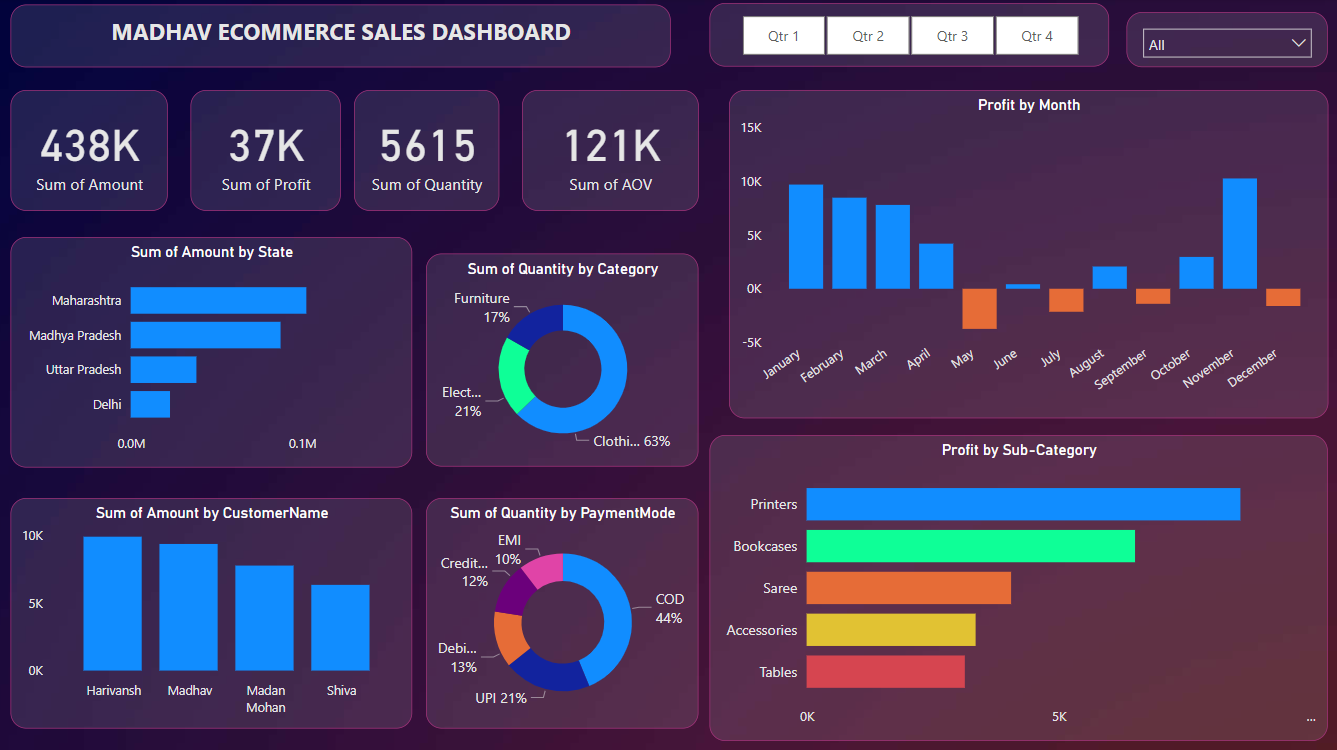

Layout of this report page (visuals, bound fields, positions):
{"tool":"powerbi","page":{"name":"Page 1","canvas":[1280,720],"ordinal":0},"visuals":[{"type":"textbox","box":[10,6.7,630,60],"z":0},{"type":"columnChart","title":"Profit by Month","fields":{"Category":["Orders.Order Date.Variation.Date Hierarchy.Month"],"Y":["Details.Profit"]},"box":[695,88.3,571.7,313.3],"z":1000},{"type":"barChart","title":"Profit by Sub-Category","fields":{"Category":["Details.Sub-Category"],"Y":["Details.Profit"]},"box":[676.7,418.3,590,291.7],"z":2000},{"type":"donutChart","fields":{"Category":["Details.Category"],"Y":["Details.Quantity"]},"box":[406.7,245,260,203.3],"z":3000},{"type":"donutChart","fields":{"Y":["Details.Quantity"],"Category":["Details.PaymentMode"]},"box":[406.7,478.3,260,220],"z":4000},{"type":"card","fields":{"Values":["Details.Amount"]},"box":[10,88.3,150,115],"z":5000},{"type":"card","fields":{"Values":["Details.Quantity"]},"box":[338.3,88.3,138.3,115],"z":6000},{"type":"card","fields":{"Values":["Details.ADV"]},"box":[498.3,88.3,168.3,115],"z":7000},{"type":"card","fields":{"Values":["Details.Profit"]},"box":[181.7,88.3,143.3,115],"z":8000},{"type":"barChart","title":"Sum of Amount by State","fields":{"Category":["Orders.State"],"Y":["Details.Amount"]},"box":[10,228.3,383.3,220],"z":9000},{"type":"columnChart","fields":{"Category":["Orders.CustomerName"],"Y":["Details.Amount"]},"box":[10,478.3,383.3,220],"z":10000},{"type":"slicer","fields":{"Values":["Orders.Order Date.Variation.Date Hierarchy.Quarter"]},"box":[677.1,6.4,381.5,60.4],"z":11000},{"type":"slicer","fields":{"Values":["Orders.State"]},"box":[1074.4,14.3,192.3,52.5],"z":12000}]}

Visuals, with their boxes in screenshot pixels (x1, y1, x2, y2), scaled from the page's 1280x720 canvas onto the 1337x750 screenshot:
textbox: bbox=[10, 7, 668, 69]
"Profit by Month" columnChart: bbox=[726, 92, 1323, 418]
"Profit by Sub-Category" barChart: bbox=[707, 436, 1323, 740]
donutChart - Details.Category x Details.Quantity: bbox=[425, 255, 696, 467]
donutChart - Details.Quantity x Details.PaymentMode: bbox=[425, 498, 696, 727]
card - Details.Amount: bbox=[10, 92, 167, 212]
card - Details.Quantity: bbox=[353, 92, 498, 212]
card - Details.ADV: bbox=[520, 92, 696, 212]
card - Details.Profit: bbox=[190, 92, 339, 212]
"Sum of Amount by State" barChart: bbox=[10, 238, 411, 467]
columnChart - Orders.CustomerName x Details.Amount: bbox=[10, 498, 411, 727]
slicer - Orders.Order Date.Variation.Date Hierarchy.Quarter: bbox=[707, 7, 1106, 70]
slicer - Orders.State: bbox=[1122, 15, 1323, 70]
